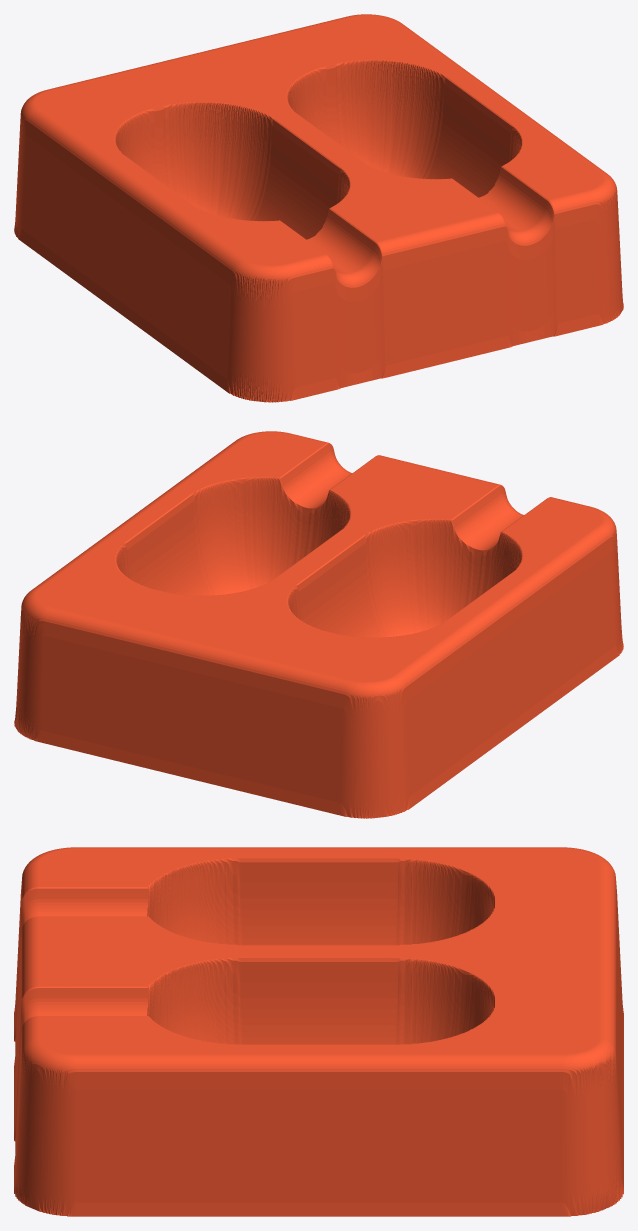
Rendered from mold.glb.
3 views of the same model, one above another, from view 1: azimuth 30°, elevation 25°; view 2: azimuth 150°, elevation 25°; view 3: azimuth 270°, elevation 25° (orthographic). The views are drawn at different scales.
Parts seen in each view (by area): view 1: geometry_0; view 2: geometry_0; view 3: geometry_0.
Boxes of the visible parts, x1=… form: geometry_0: x1=14, y1=14, x2=623, y2=402; geometry_0: x1=14, y1=431, x2=623, y2=818; geometry_0: x1=14, y1=847, x2=623, y2=1216.
Bounding box in the file's own units: 0.0782 × 0.0245 × 0.0891.
